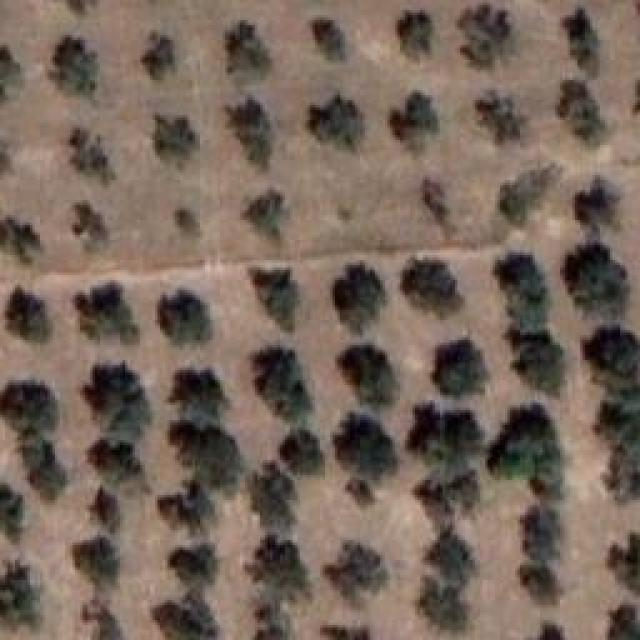Tree: (488, 403, 563, 500), (83, 364, 152, 444), (168, 425, 243, 489), (563, 245, 628, 317), (407, 404, 485, 464), (503, 325, 567, 395), (333, 413, 398, 481), (495, 252, 549, 332), (253, 352, 314, 422), (245, 535, 309, 600), (323, 540, 388, 603), (338, 343, 399, 410), (75, 285, 140, 345), (500, 165, 563, 225), (333, 265, 386, 333), (0, 380, 63, 437), (418, 465, 479, 523), (588, 325, 640, 392), (170, 370, 229, 428), (403, 260, 463, 317), (458, 5, 512, 68), (558, 80, 609, 146), (432, 338, 490, 396), (250, 463, 298, 531), (228, 98, 273, 170), (157, 480, 215, 535), (158, 290, 213, 346), (310, 95, 364, 151), (250, 270, 298, 332), (168, 538, 223, 590), (425, 528, 474, 586), (225, 20, 270, 82), (50, 35, 98, 93), (418, 578, 469, 631), (562, 8, 600, 79), (575, 175, 621, 233), (157, 595, 217, 639), (475, 90, 524, 143), (70, 128, 115, 185), (520, 505, 561, 566), (88, 437, 143, 482), (73, 537, 122, 587), (595, 398, 640, 451), (155, 115, 198, 170), (0, 560, 38, 622), (390, 93, 439, 141), (8, 285, 48, 341), (243, 190, 284, 240), (607, 532, 640, 593), (280, 430, 324, 475), (0, 217, 42, 264), (398, 10, 434, 61), (252, 593, 290, 640), (73, 203, 108, 252), (143, 33, 176, 80), (0, 43, 23, 110), (90, 488, 120, 534), (0, 482, 22, 541), (523, 565, 554, 606), (314, 20, 344, 61), (607, 605, 640, 640), (345, 477, 375, 507), (178, 210, 198, 240), (537, 623, 565, 640)
